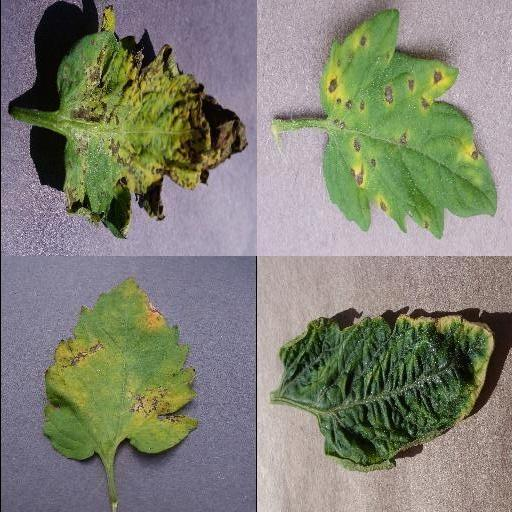Septoria: (53, 8, 249, 240), (318, 11, 496, 237), (38, 275, 200, 465)
Yellow Leaf Curl Virus: (276, 314, 496, 472)
